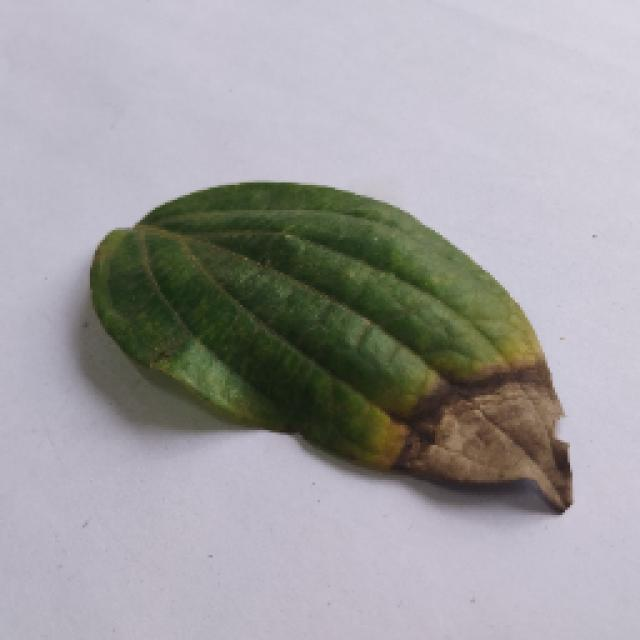footrot: (75, 172, 570, 520)
